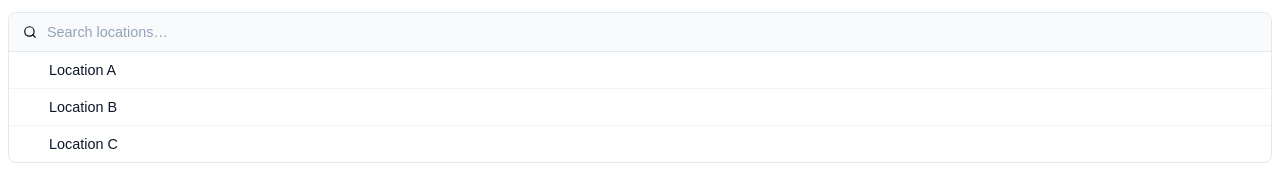
Test: LocationPicker › filters visible locations as the user types in the search box
This screenshot has width=1280, height=180.
Type "B" into the search field with test id "location-search".
click(651, 32); type("B")  # box top-left (45, 23), bottom-right (1257, 41)
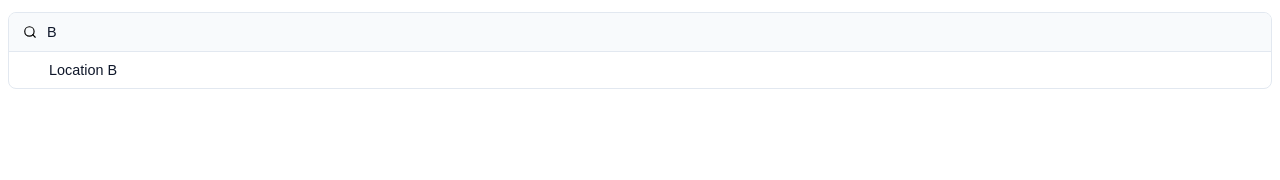
Expected: the option "Location B" is shown, top-left (9, 52), bottom-right (1271, 88)
Result: the number of options is 1 at top-left (9, 52), bottom-right (1271, 88)
